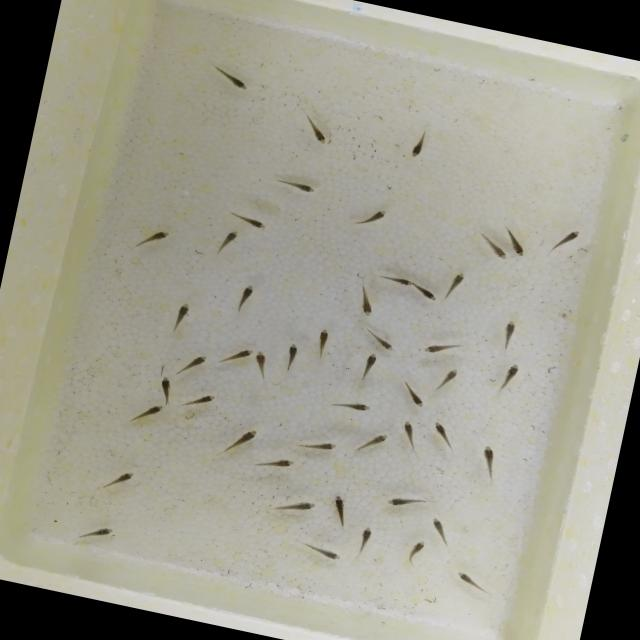fingerling: (278, 334, 311, 368), (274, 494, 320, 518), (228, 421, 260, 454), (352, 287, 384, 320), (424, 512, 456, 543), (472, 442, 502, 474), (237, 212, 276, 236), (502, 236, 536, 263), (132, 399, 168, 424), (384, 489, 422, 512), (142, 224, 178, 248), (219, 68, 252, 94), (306, 543, 346, 564), (215, 225, 243, 255), (480, 240, 514, 264), (169, 296, 196, 326), (402, 136, 432, 163), (304, 118, 331, 148), (498, 314, 526, 342), (363, 202, 391, 230), (264, 454, 303, 474), (86, 520, 118, 544), (358, 349, 385, 377), (372, 330, 399, 358), (418, 339, 455, 359), (556, 223, 583, 250), (402, 537, 430, 563), (362, 428, 390, 454), (450, 568, 483, 590), (400, 386, 430, 410), (183, 390, 219, 410), (153, 372, 177, 402), (182, 351, 212, 375), (284, 176, 318, 197), (223, 344, 254, 367), (238, 278, 261, 309), (444, 266, 467, 296), (437, 364, 463, 390), (311, 325, 336, 352), (344, 397, 373, 418), (499, 362, 519, 392), (250, 346, 270, 376), (384, 272, 414, 292), (353, 524, 376, 550), (109, 467, 136, 489), (326, 491, 348, 518), (428, 416, 450, 441), (310, 438, 343, 454), (400, 420, 420, 443), (416, 286, 440, 302)
